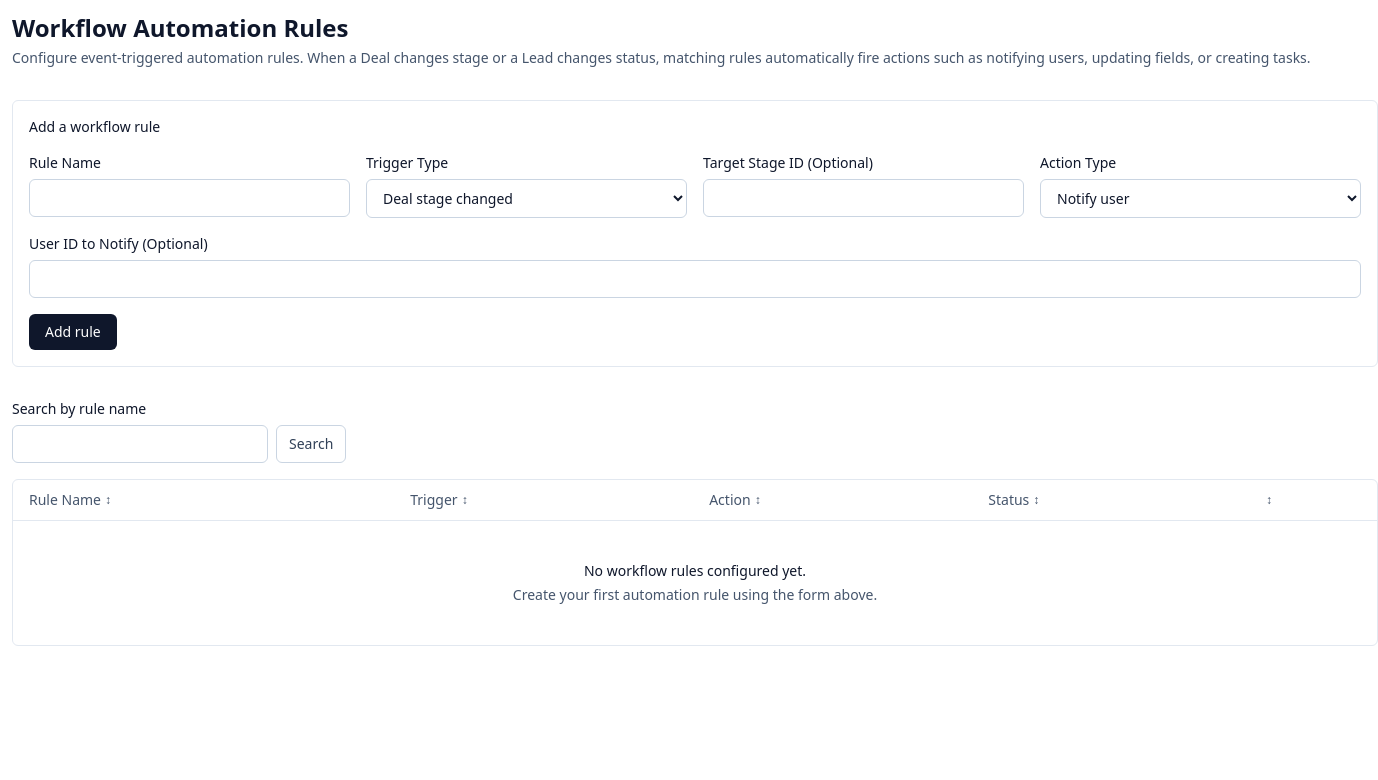
Scenario: WorkflowRulesPage › creates a new workflow rule from the form
Expected: the text "No workflow rules configured yet." is shown, [584,561,806,580]
Type "Lead Task Automation" into the field labelled "Rule Name" at (190, 198), box [29,179,350,217]
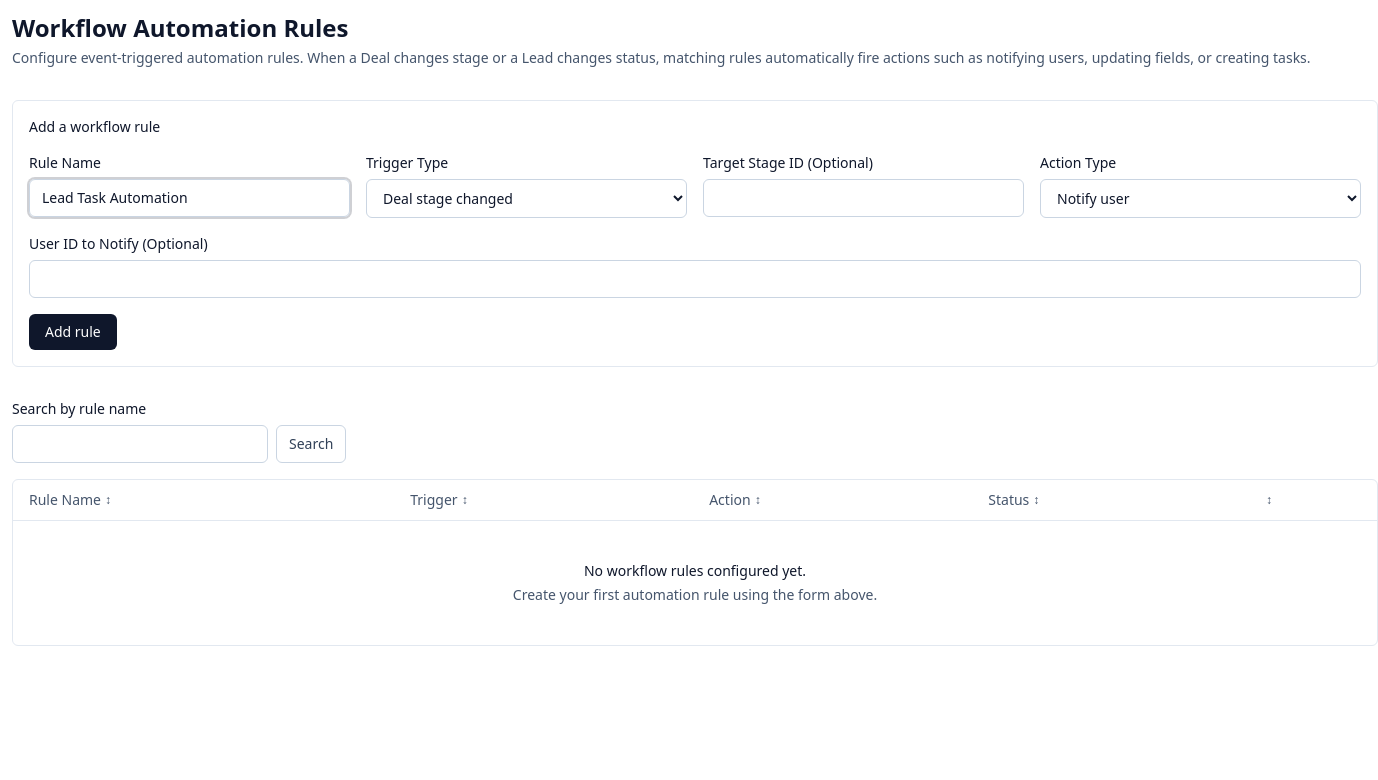
Select "Lead status changed" in the dropdown labelled "Trigger Type" at (526, 198), box [366,179,687,218]
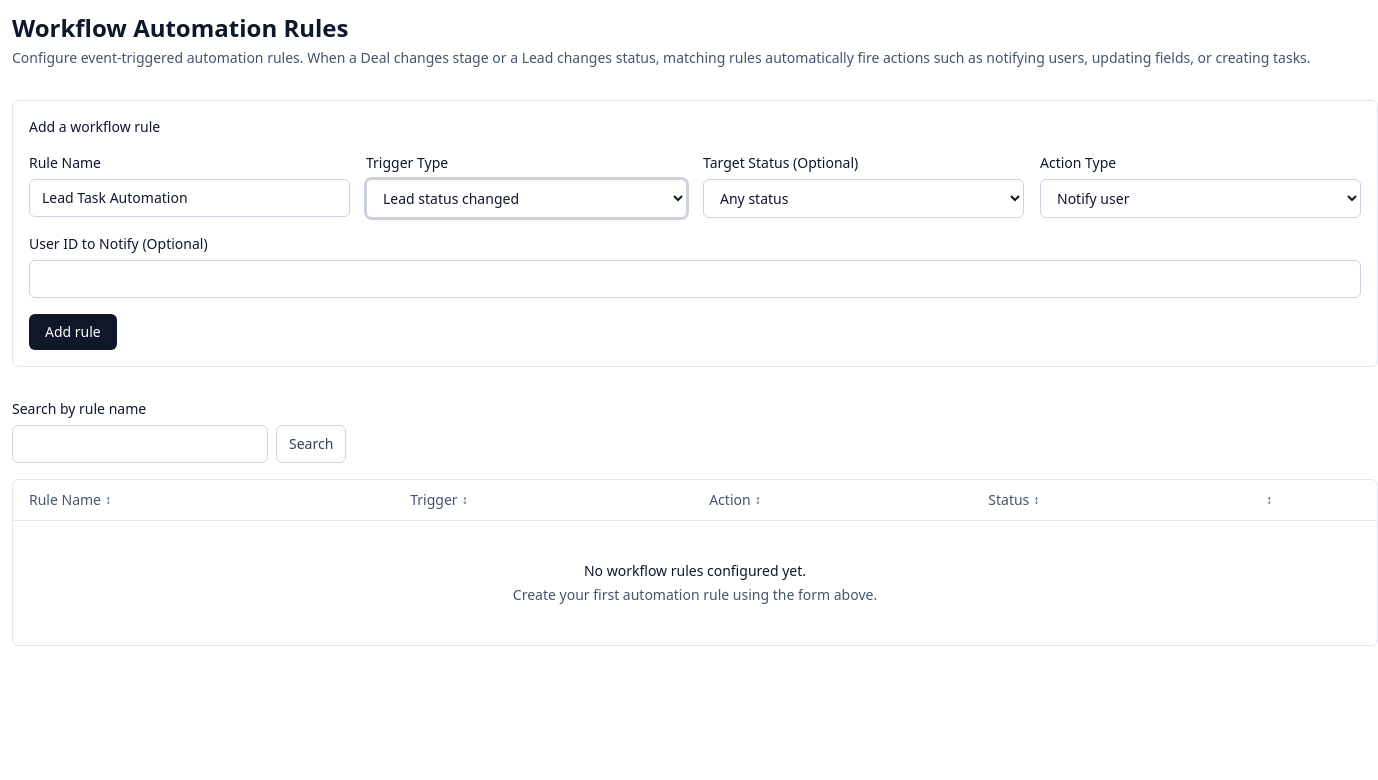
Select "Create task" in the dropdown labelled "Action Type" at (1200, 198), box [1040,179,1361,218]
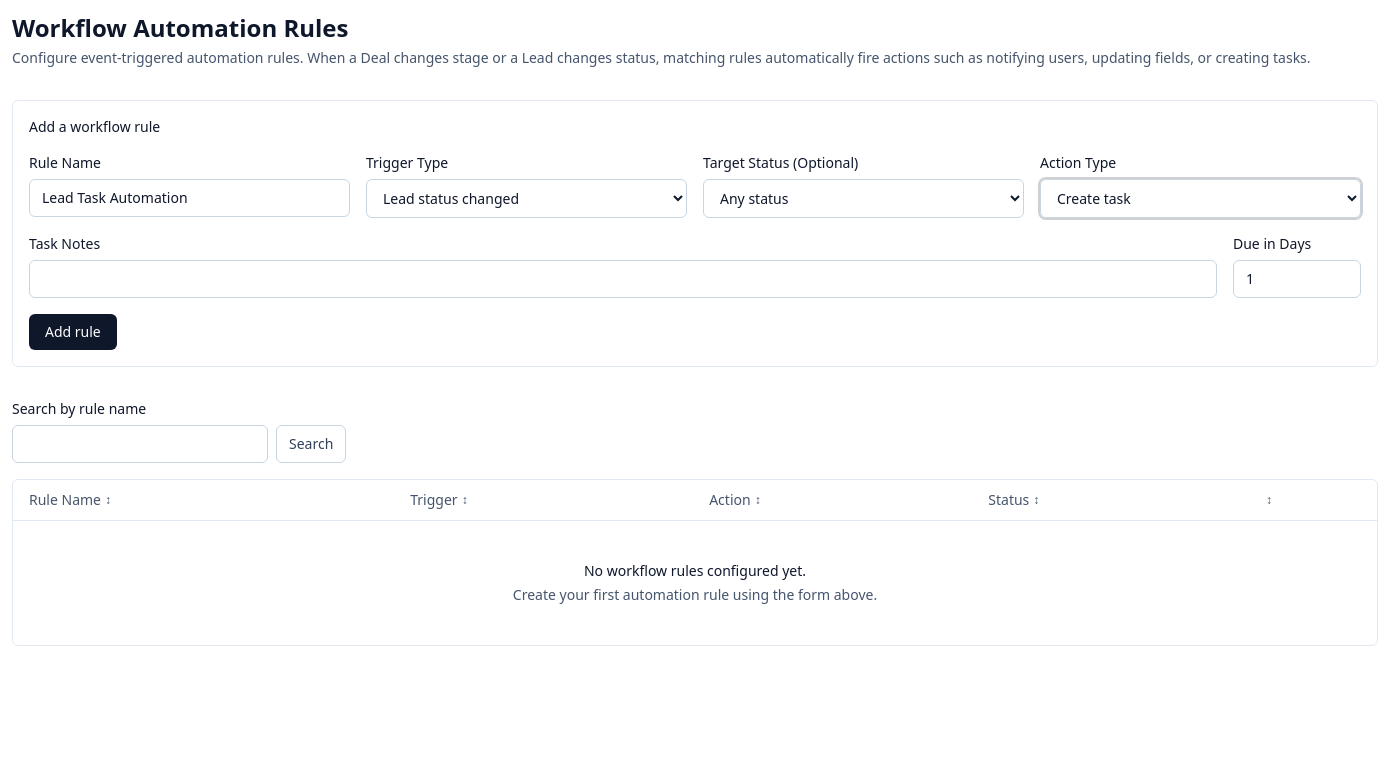
Click the button "Add rule" at (73, 332), box [29,314,117,350]
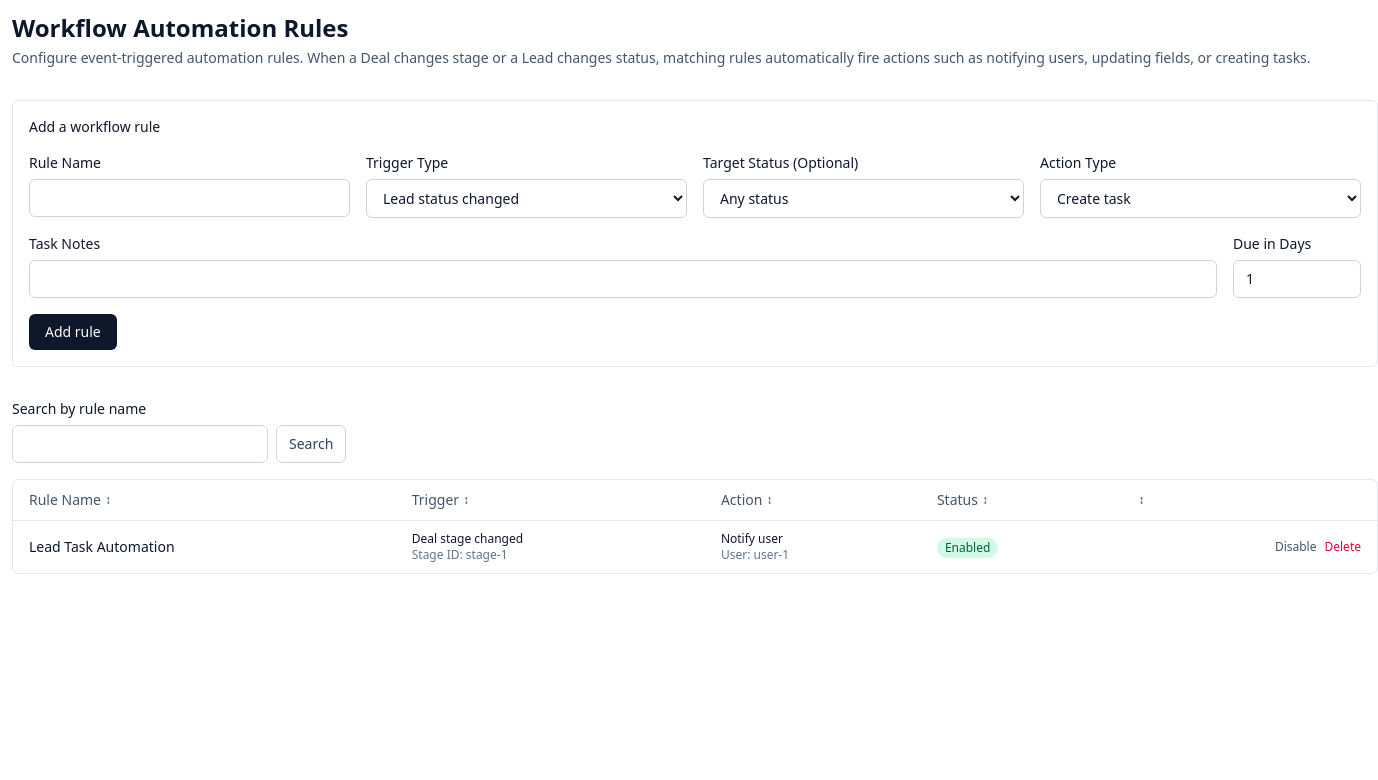
Result: the text "Lead Task Automation" is shown at [29,537,174,556]
